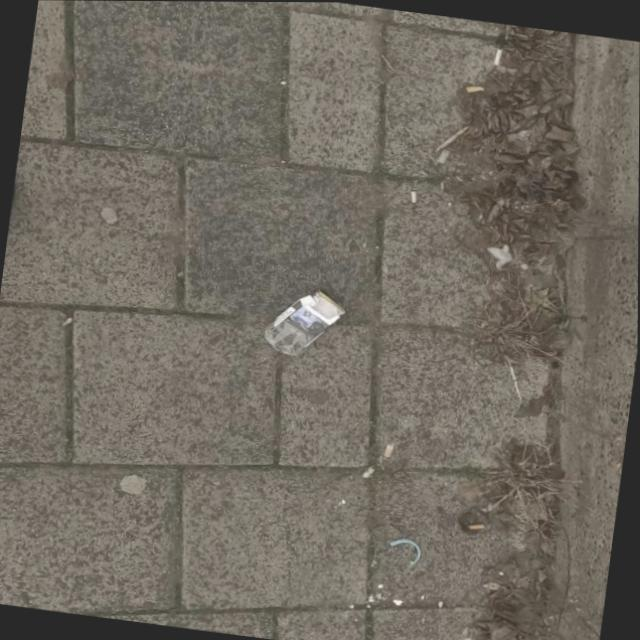Paper: (260, 281, 349, 362)
